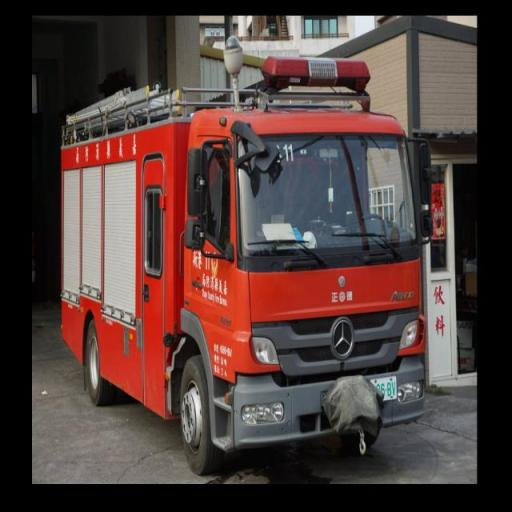fire truck: (70, 25, 449, 475)
